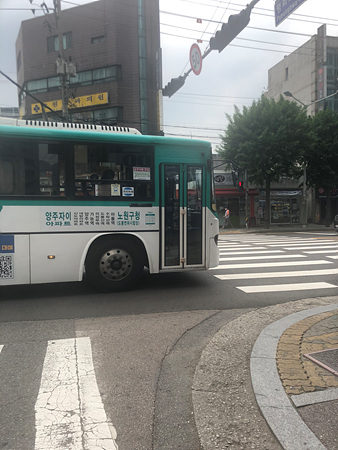entrance: (158, 156, 209, 271)
